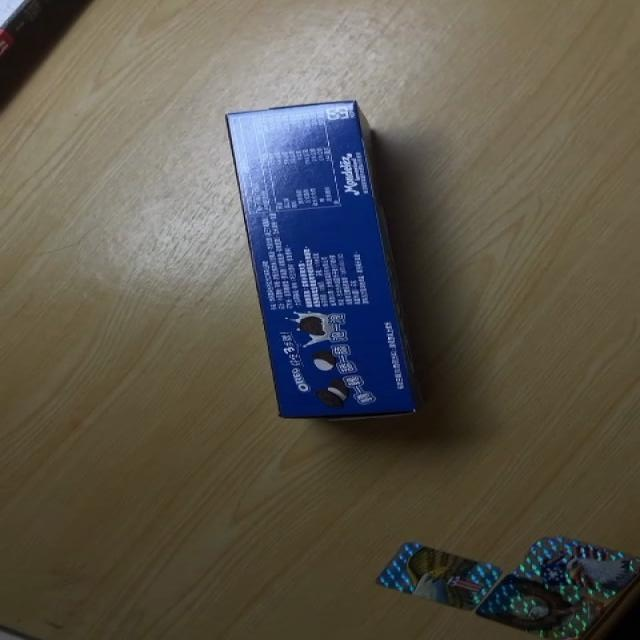Oreo: (223, 100, 418, 421)
